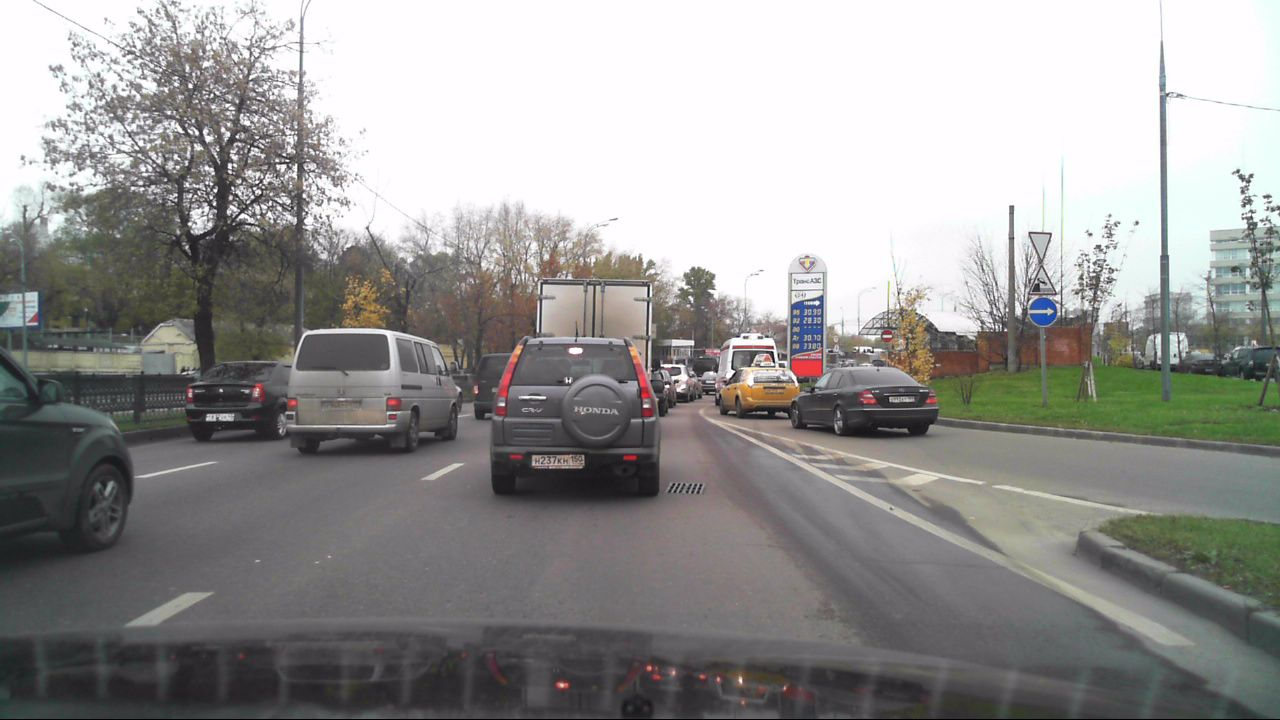Turn Right: (1027, 297, 1057, 326)
